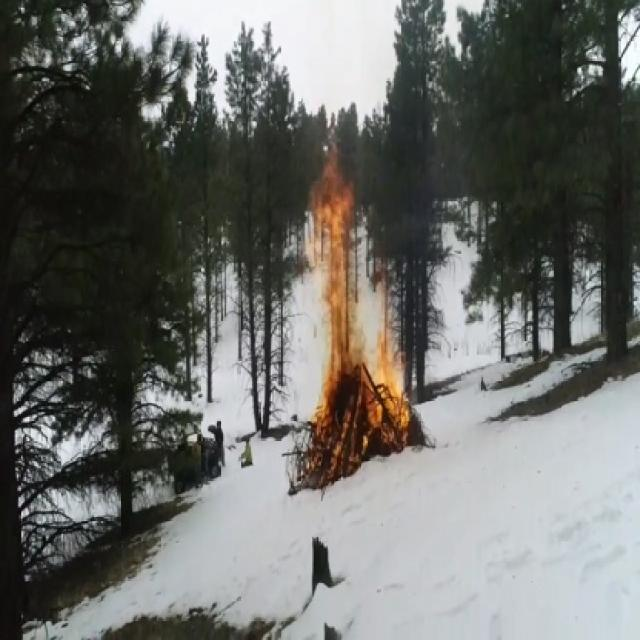Fire: (294, 136, 414, 487)
